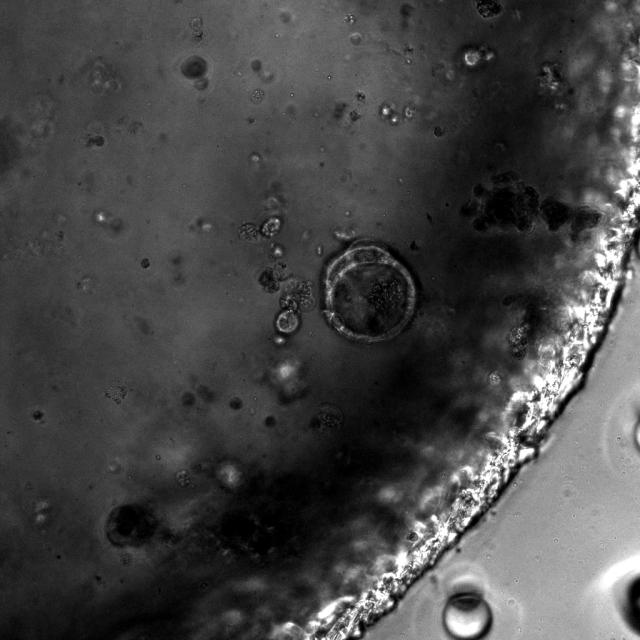organoid: (457, 170, 604, 248), (322, 241, 416, 343), (107, 503, 158, 546), (275, 280, 314, 334), (538, 62, 572, 112), (238, 215, 282, 241), (258, 260, 290, 292), (180, 54, 208, 90), (461, 44, 495, 69), (312, 403, 342, 430), (475, 0, 502, 18), (380, 103, 399, 125), (190, 17, 203, 43), (269, 243, 283, 259), (86, 135, 104, 147), (251, 88, 264, 103), (181, 391, 194, 406), (229, 396, 242, 410), (404, 105, 415, 119), (350, 32, 361, 45), (251, 58, 261, 71), (264, 415, 275, 426), (140, 258, 150, 269), (434, 126, 443, 137)
